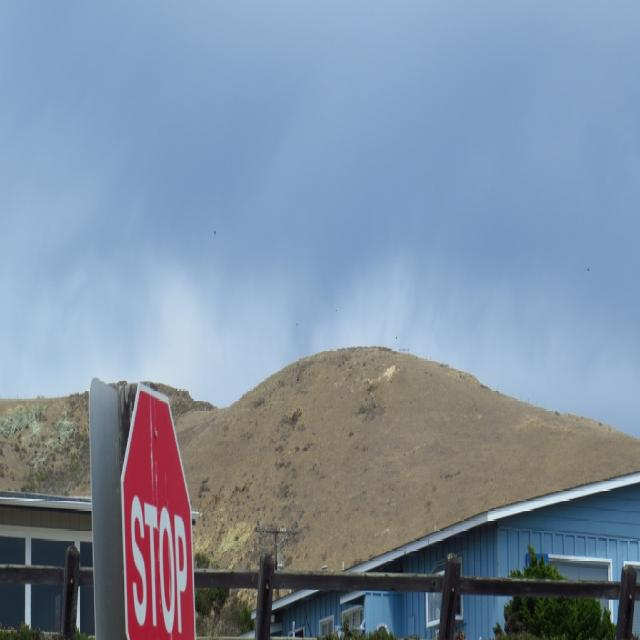Stop-sign: (121, 379, 196, 637)
